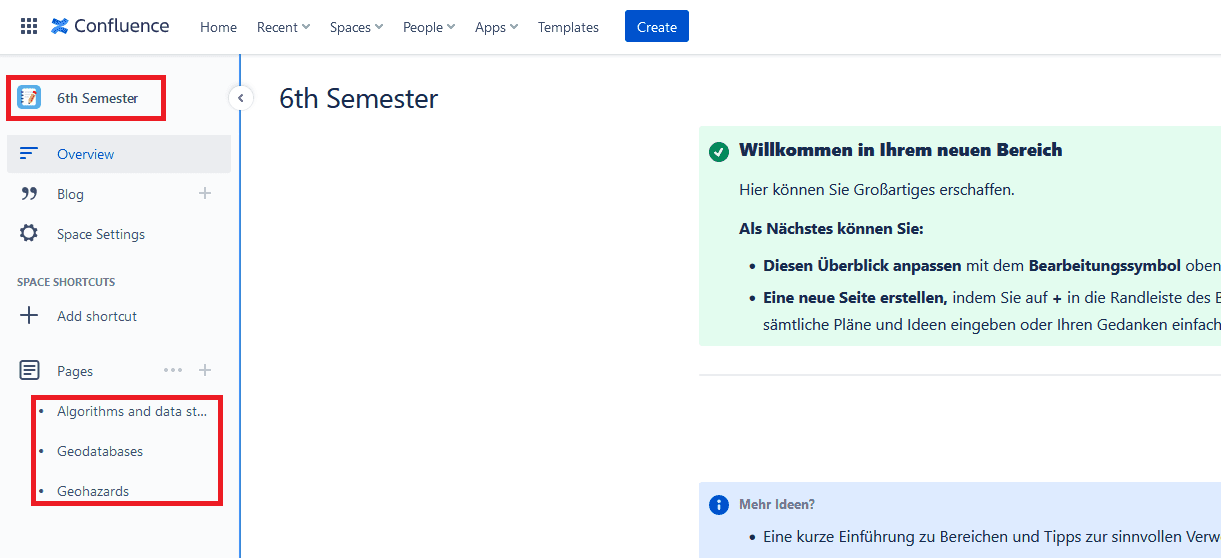button_create: (624, 10, 692, 45)
